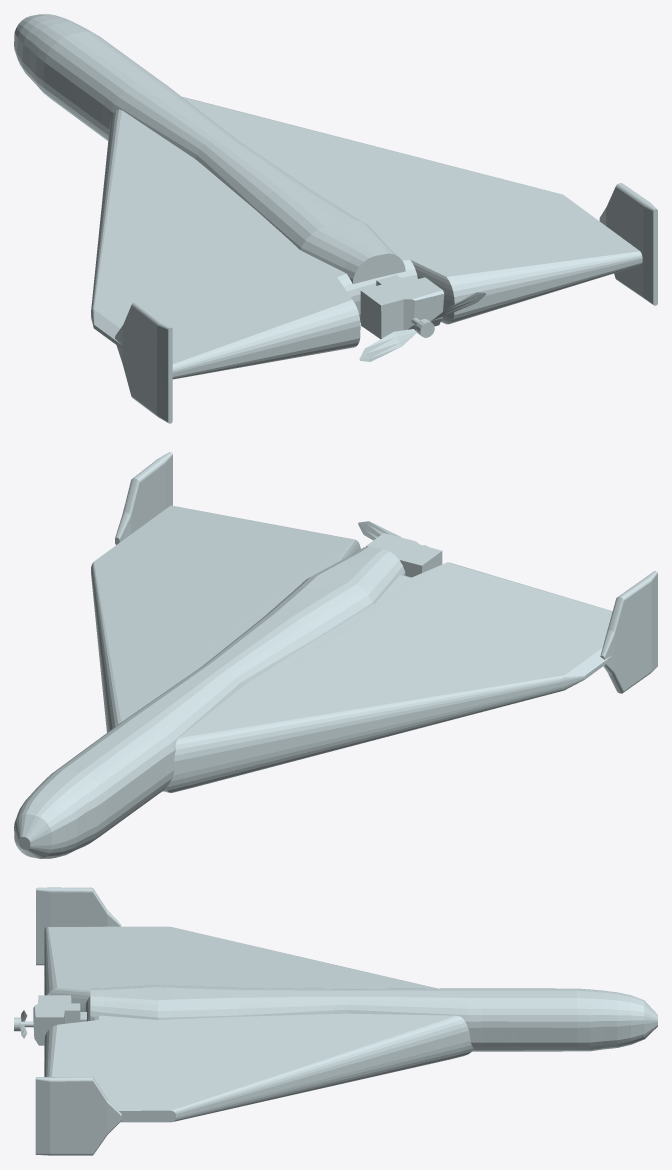
Rendered from FFLO.glb.
3 renders of one model, top to bottom at view 1: azimuth 30°, elevation 25°; view 2: azimuth 150°, elevation 25°; view 3: azimuth 270°, elevation 25°, orthographic. The views are drawn at different scales.
Visible parts, largest first — view 1: Aircraft visual hull, Rotor 1789633217641-pcbxcrja10f; view 2: Aircraft visual hull; view 3: Aircraft visual hull.
Boxes of the visible parts, x1,y1,x2,y2 form: Aircraft visual hull: [14, 14, 657, 423]; Rotor 1789633217641-pcbxcrja10f: [359, 292, 486, 361]; Aircraft visual hull: [14, 452, 657, 858]; Aircraft visual hull: [33, 887, 657, 1155].
Size of the model in its own units: 2.53 by 0.474 by 3.56.
